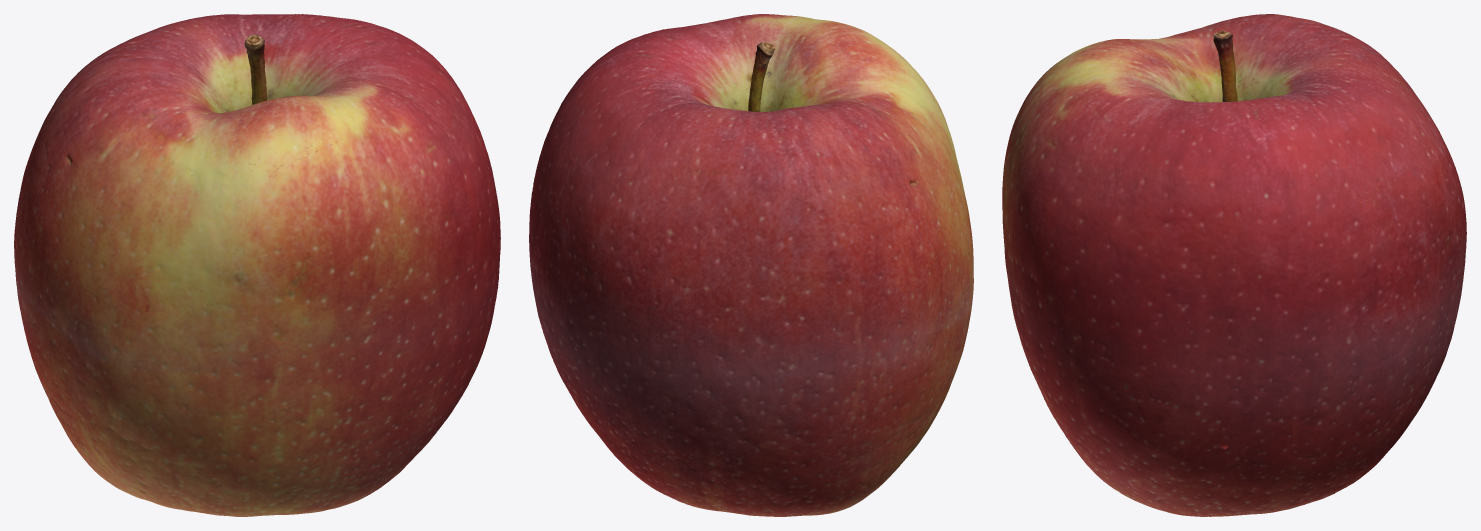
Rendered from braeburn_-_apfel.glb.
3 views of the same model, side by side, from view 1: azimuth 30°, elevation 25°; view 2: azimuth 150°, elevation 25°; view 3: azimuth 270°, elevation 25° (orthographic). The views are drawn at different scales.
Parts seen in each view (by area): view 1: Object_6, Object_7, Object_5, Object_2, Object_4, Object_3; view 2: Object_2, Object_6, Object_3, Object_4, Object_7, Object_5; view 3: Object_3, Object_4, Object_2, Object_5, Object_7, Object_6.
Boxes of the visible parts, <box> form: Object_6: <box>14,65,401,516</box>; Object_7: <box>15,19,399,340</box>; Object_5: <box>16,14,499,514</box>; Object_2: <box>14,14,495,386</box>; Object_4: <box>105,14,500,516</box>; Object_3: <box>233,14,500,429</box>; Object_2: <box>531,14,972,414</box>; Object_6: <box>659,20,973,516</box>; Object_3: <box>529,14,842,454</box>; Object_4: <box>529,14,830,516</box>; Object_7: <box>669,16,972,342</box>; Object_5: <box>533,15,973,511</box>; Object_3: <box>1002,53,1463,512</box>; Object_4: <box>1002,72,1463,516</box>; Object_2: <box>1055,14,1466,310</box>; Object_5: <box>1006,82,1465,516</box>; Object_7: <box>1002,15,1432,228</box>; Object_6: <box>1002,14,1268,239</box>.
Bounding box in the file's own units: 0.1141 × 0.1194 × 0.1128.
Materials: 1 (1 with a texture image).
